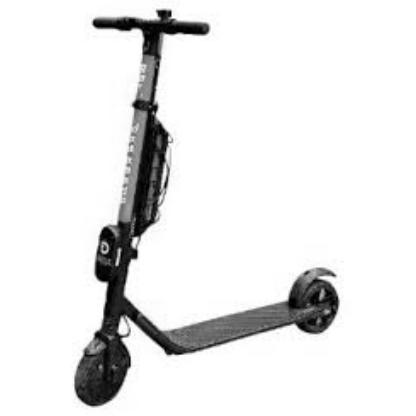bike: (71, 6, 343, 409)
